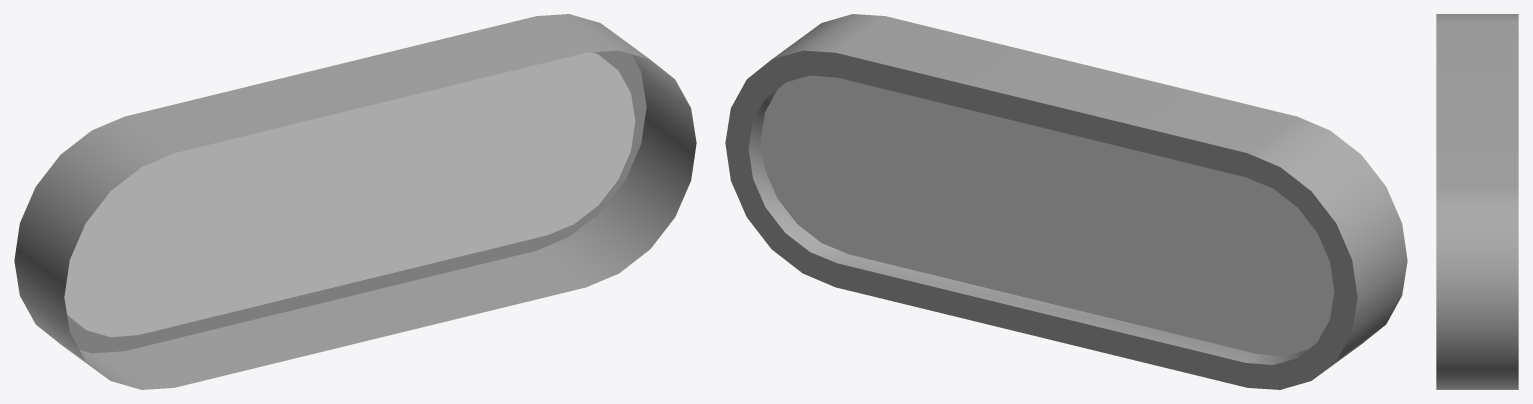
The model's file is khay.fbx.
3 renders of one model, left to right at view 1: azimuth 30°, elevation 25°; view 2: azimuth 150°, elevation 25°; view 3: azimuth 270°, elevation 25°, orthographic. The views are drawn at different scales.
Visible parts, largest first — view 1: khay; view 2: khay; view 3: khay.
Part boxes in pixels (x1=…): khay: x1=14, y1=14, x2=696, y2=389; khay: x1=725, y1=14, x2=1407, y2=389; khay: x1=1436, y1=14, x2=1518, y2=389.
Bounding box in the file's own units: 498 × 177 × 68.19.
